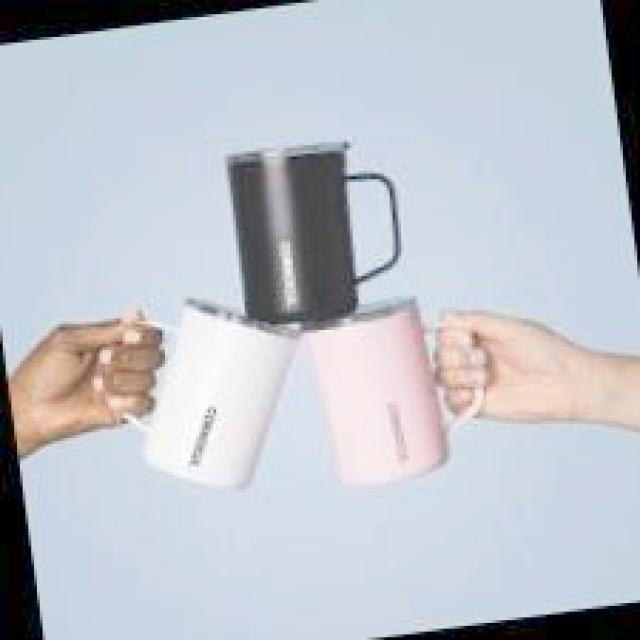bottle: (91, 279, 321, 509), (303, 286, 491, 493), (219, 130, 410, 332)
